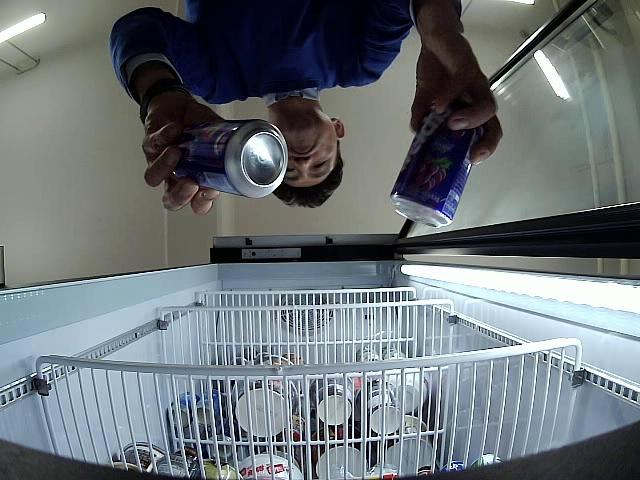00_hand: (411, 28, 503, 165), (144, 101, 226, 216)
14_welchsGrape: (390, 98, 483, 227), (175, 120, 288, 199)
